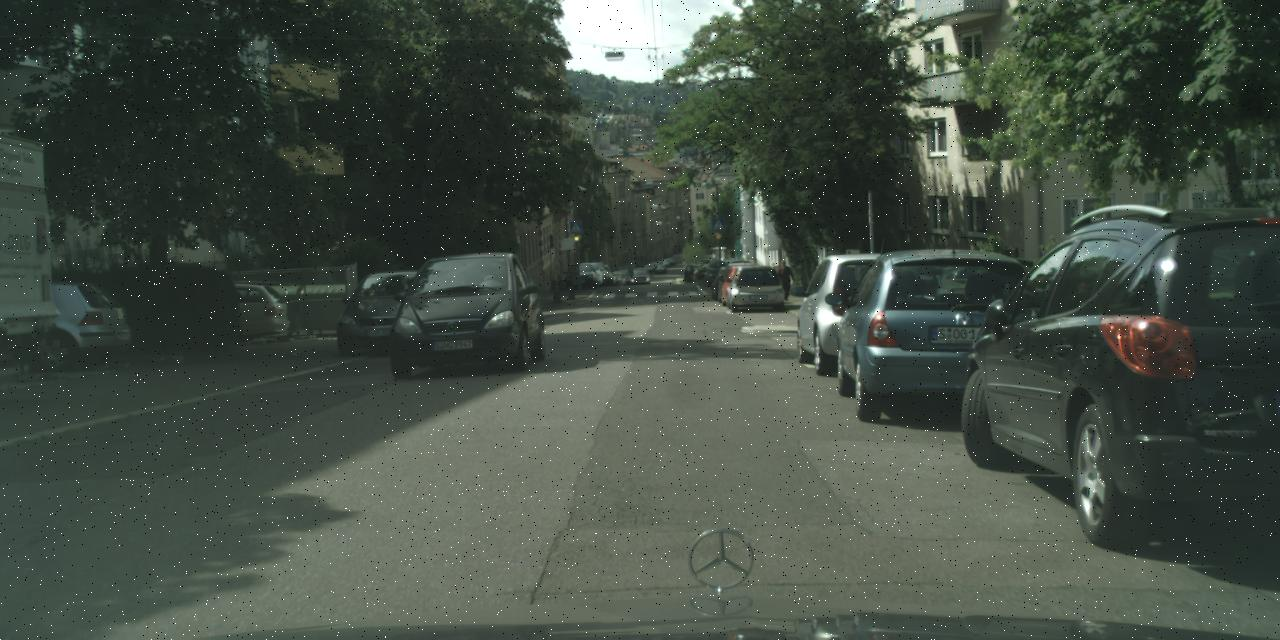ped: (776, 260, 792, 301)
